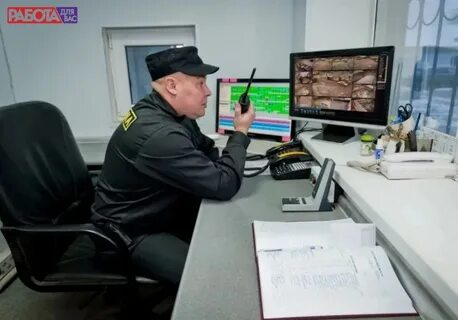awake: (90, 46, 256, 265)
